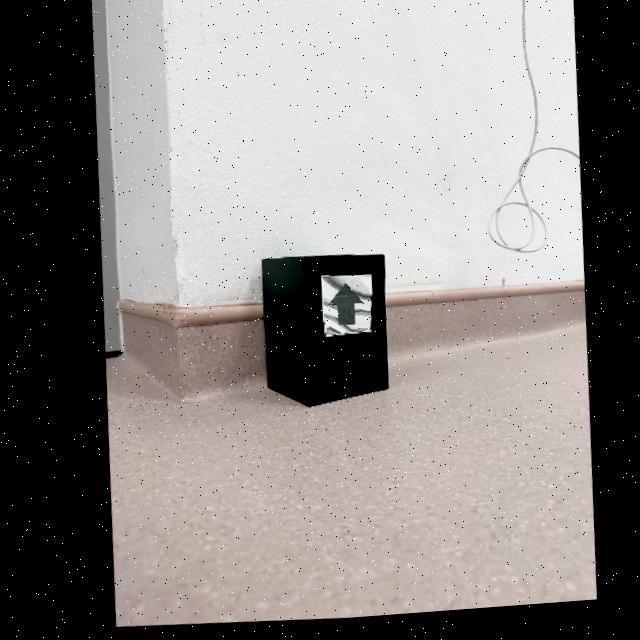UP: (324, 289, 357, 331)
